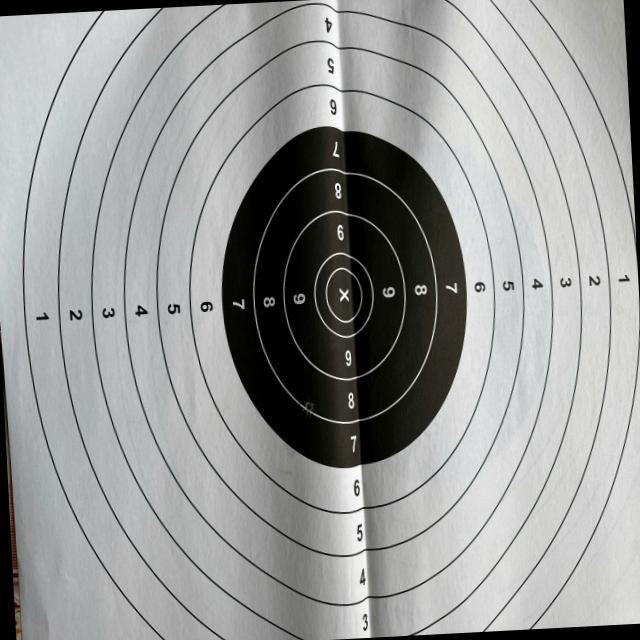bullet: (304, 401, 313, 412)
target: (0, 0, 640, 640)
